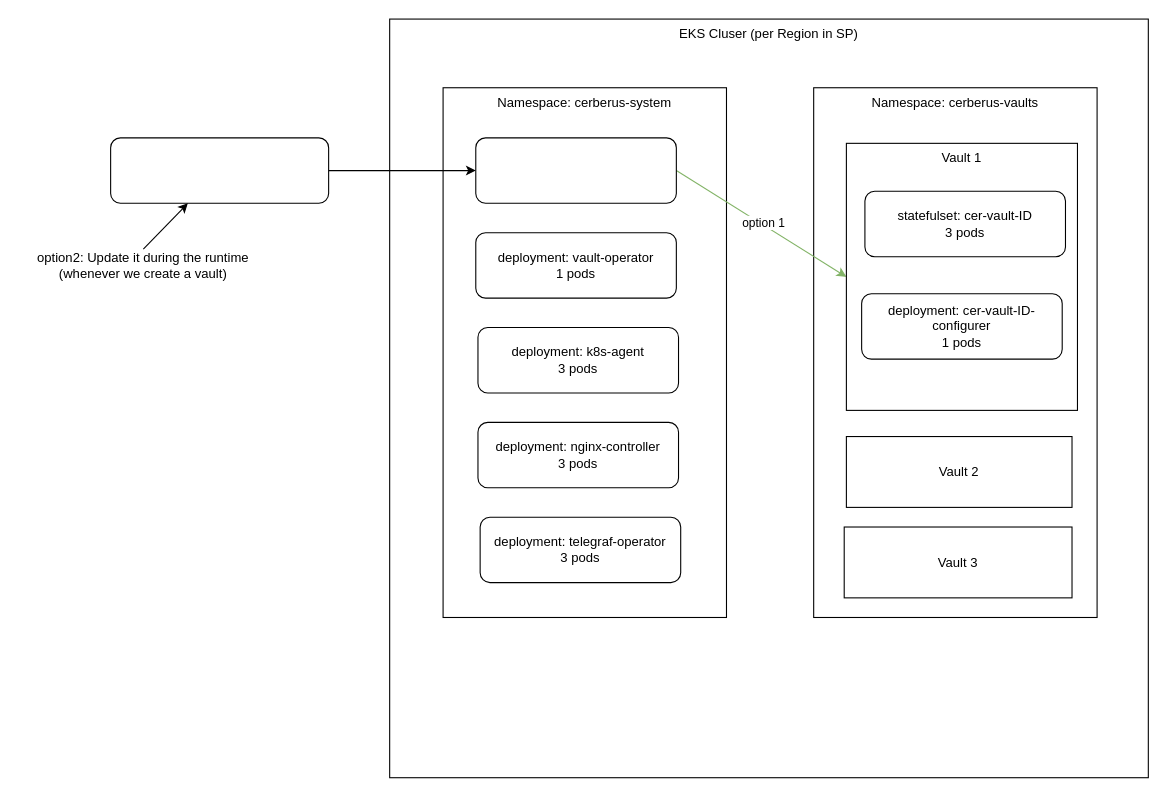
The diagram is 1167 pixels wide and 797 high, and some of its shapes have lost their labels. The centre of each missing label's shape, as x and y in pixels:
"configmap: fluentd-config" belongs at (219,170).
"daemonset: fluentd-daemon 3 pods" belongs at (575,170).
